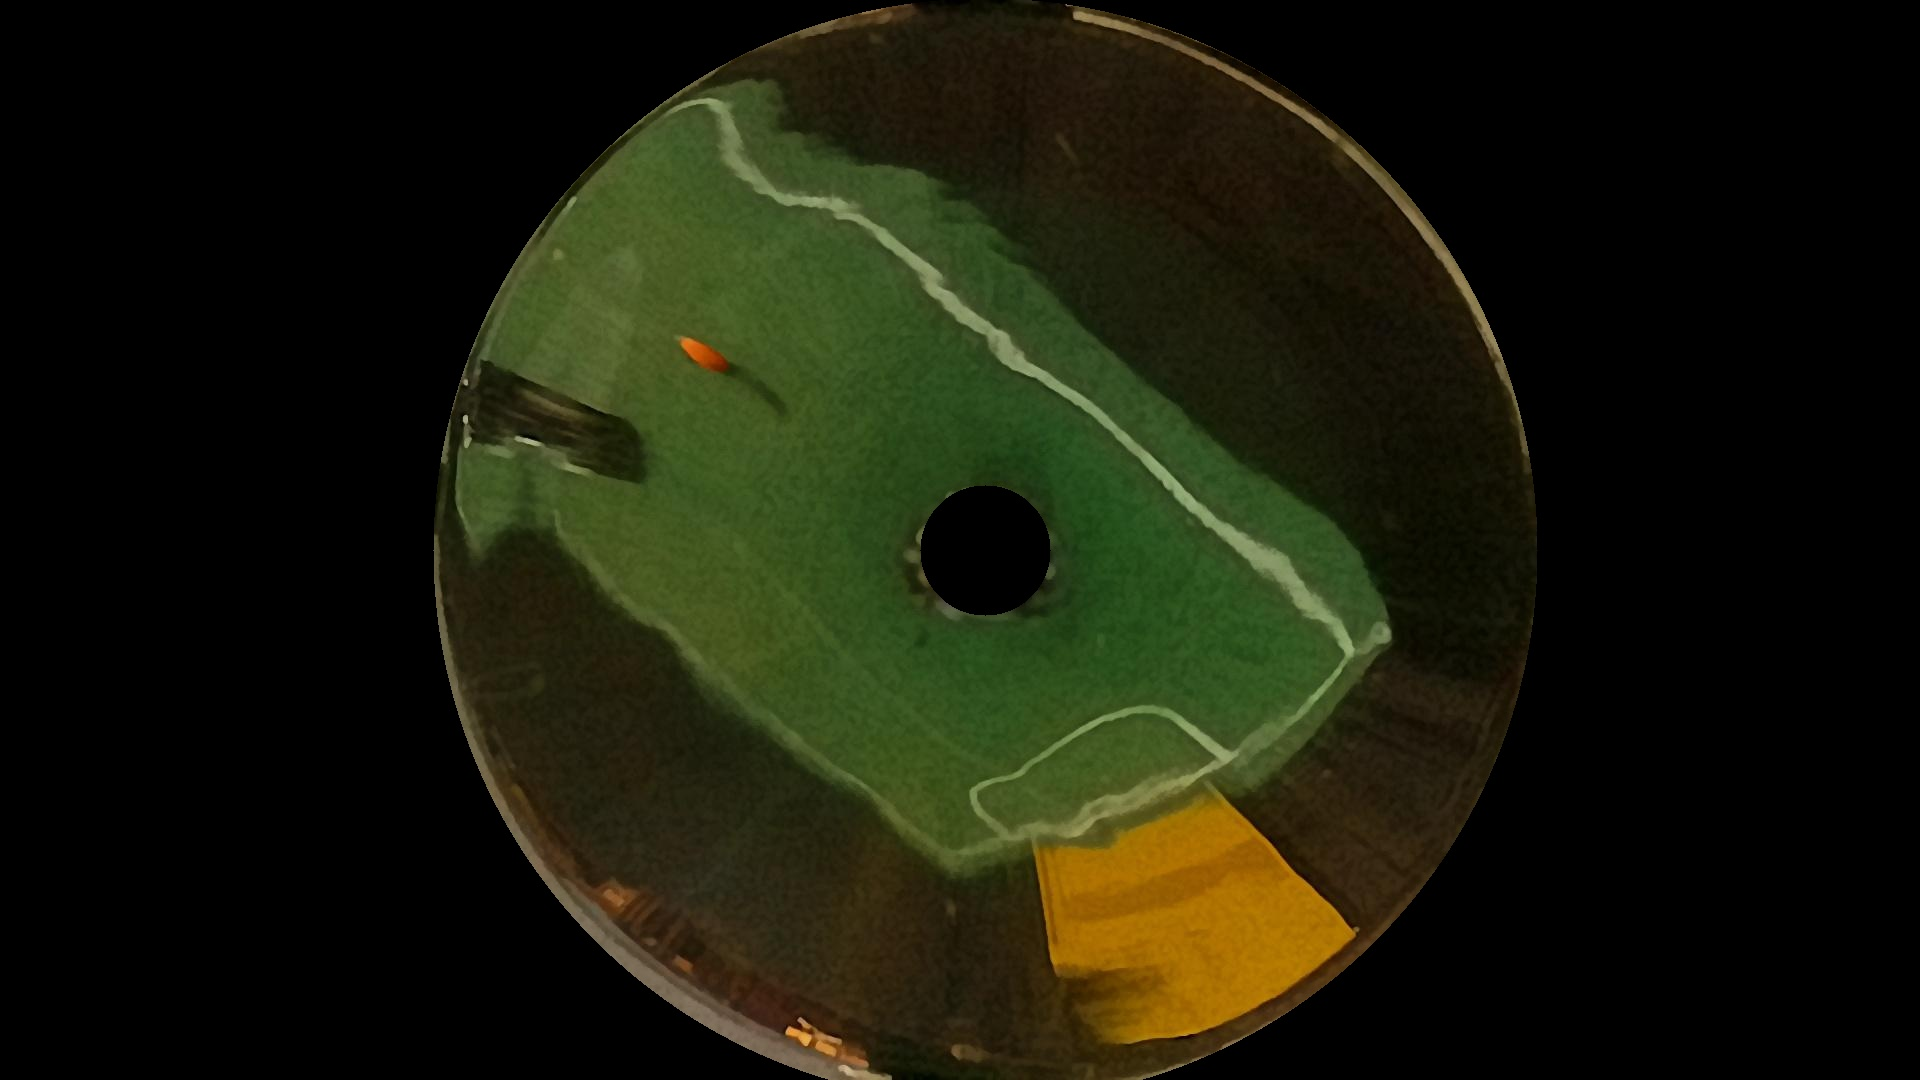ball: (663, 332, 740, 377)
robots: (448, 345, 644, 481)
yellow-goal: (1018, 778, 1348, 1029)
